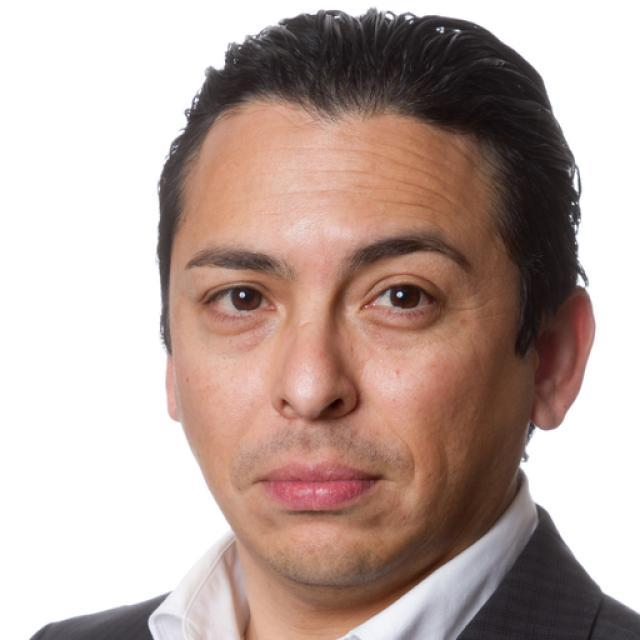neutral: (168, 101, 532, 589)
